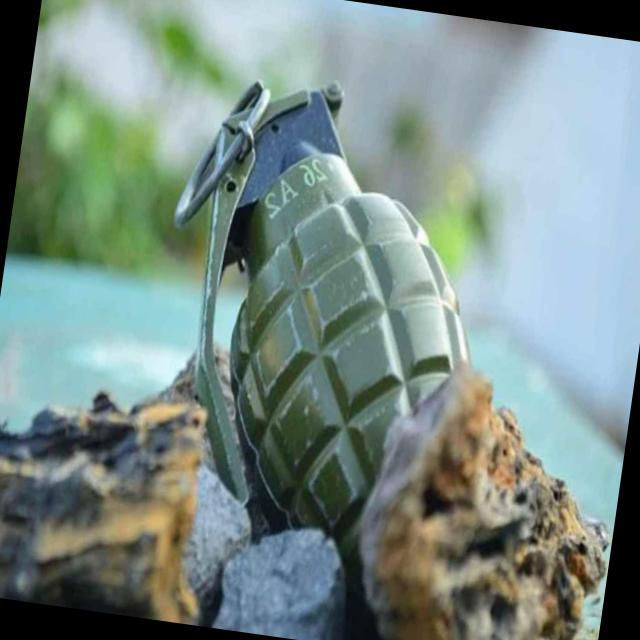grenade: (128, 64, 500, 552)
